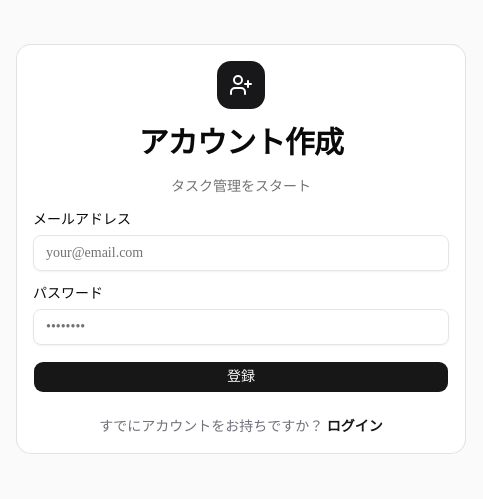
Test case: Auth Pages › RegisterPage › shows validation error for short password
The width and height of the screenshot is (483, 499).
Type "123" into the password field labelled "パスワード".
click(241, 327); type("123")  # box [33,309,449,345]
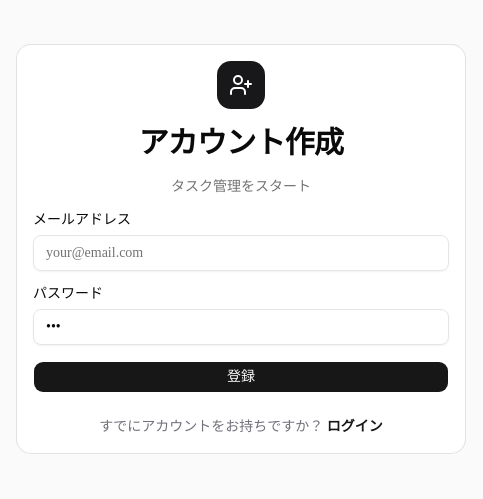
Submit the form "メールアドレス パスワード 登録", box [33,213,449,393]
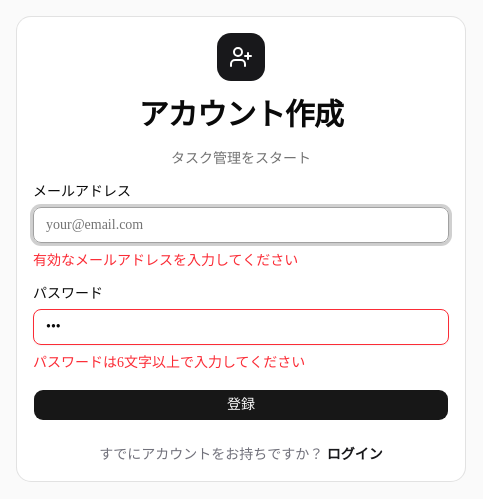
Check: the text "パスワードは6文字以上で入力してください" is shown, box [33,355,305,370]
